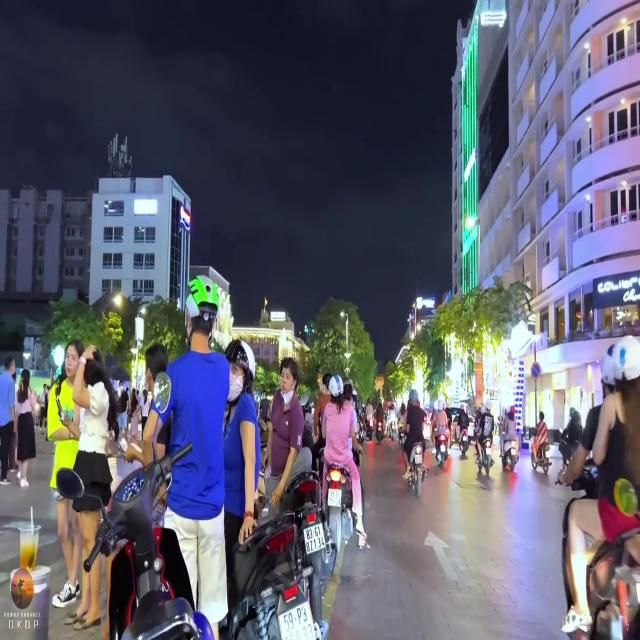bien_trang: (272, 599, 316, 640), (301, 520, 328, 558)
